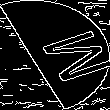M_SW: (11, 24, 99, 86)
